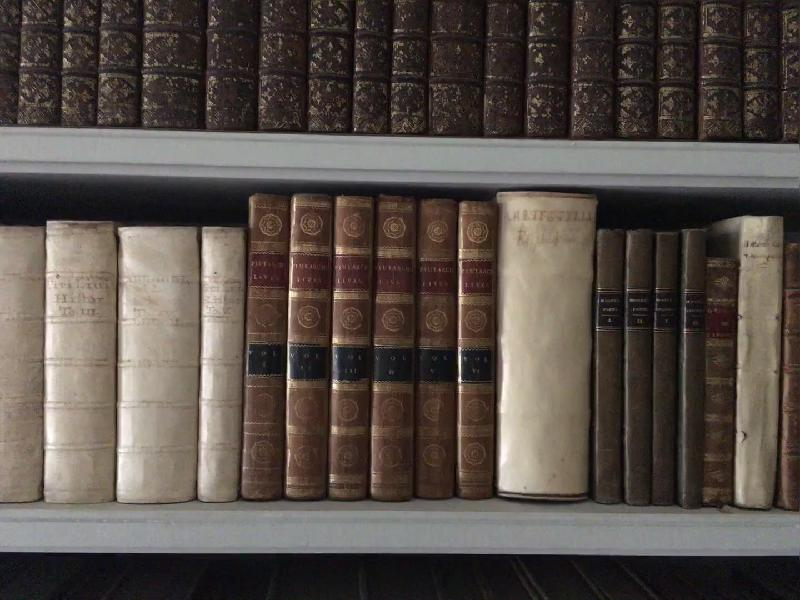Kk4-14: (491, 171, 600, 507)
Kk4-15_16: (585, 222, 660, 510)
Kk4-17_18: (648, 212, 705, 508)
Kk4-19: (698, 248, 748, 509)
Kk4-20: (737, 207, 781, 505)
Kk4-3_7: (3, 212, 257, 514)
Kk4-8_13: (240, 179, 498, 510)
